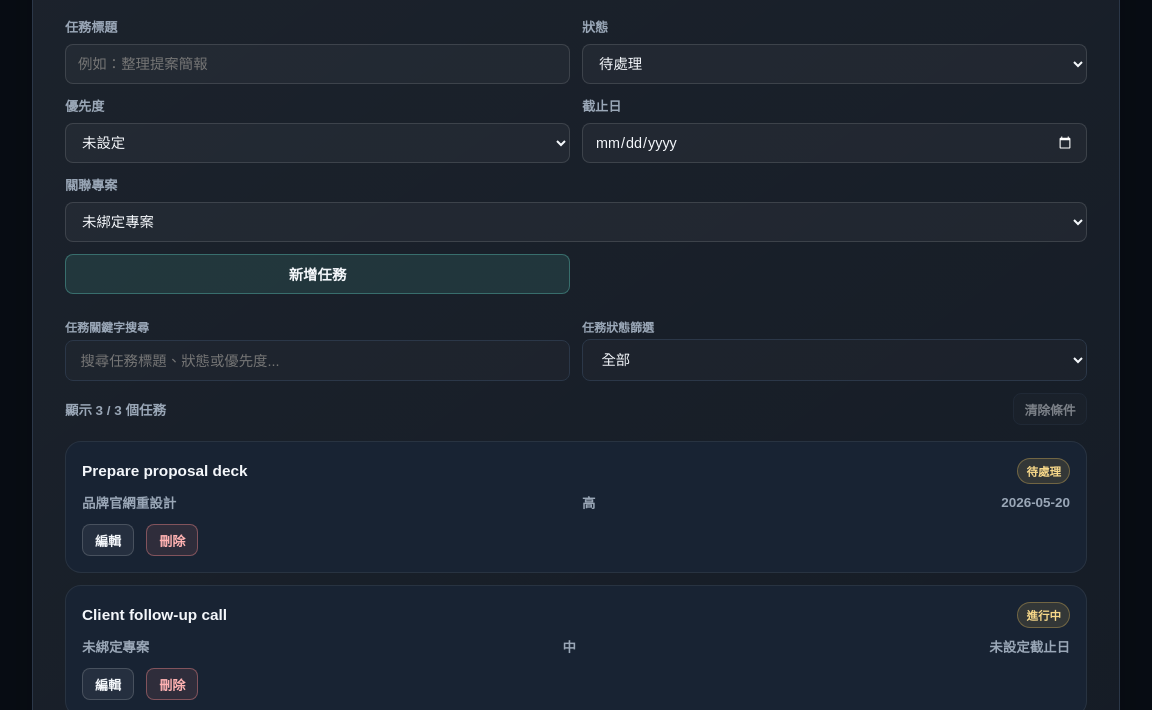
it: TasksPage Supabase integration behaviors › resets search/filter criteria on tasks page
The width and height of the screenshot is (1152, 710).
(page scrolled)
expect the field with id "tasks-search-input" is shown: met, box [65, 340, 570, 381]
Select "待處理" in the dropdown with id "tasks-status-filter" at [834, 360], box [582, 339, 1087, 381]
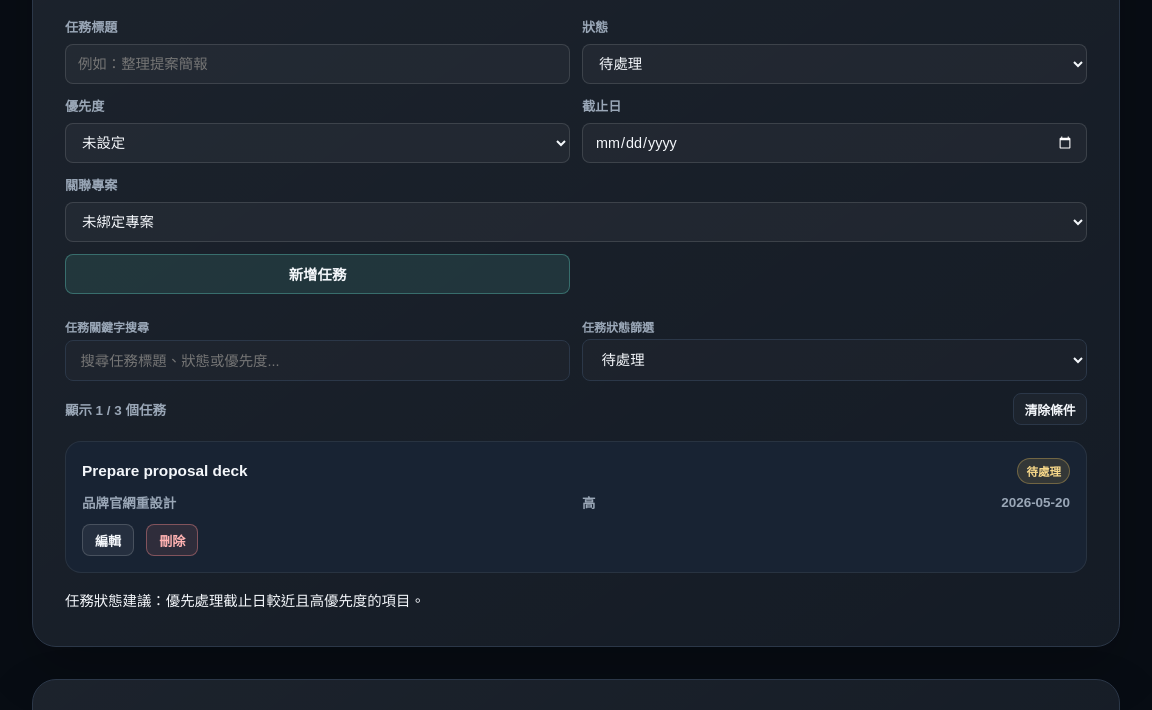
expect the number of elements with test id "tasks-status-badge" is 1: met, box [1018, 458, 1070, 484]
expect the text with test id "tasks-result-count" shows "1 / 3": met, box [65, 399, 166, 419]
expect the button with test id "tasks-reset-control" is enabled: met, box [1013, 393, 1087, 425]
Type "no-match-keyword" into the field with id "tasks-search-input".
click(318, 360); type("no-match-keyword")  # box [65, 340, 570, 381]
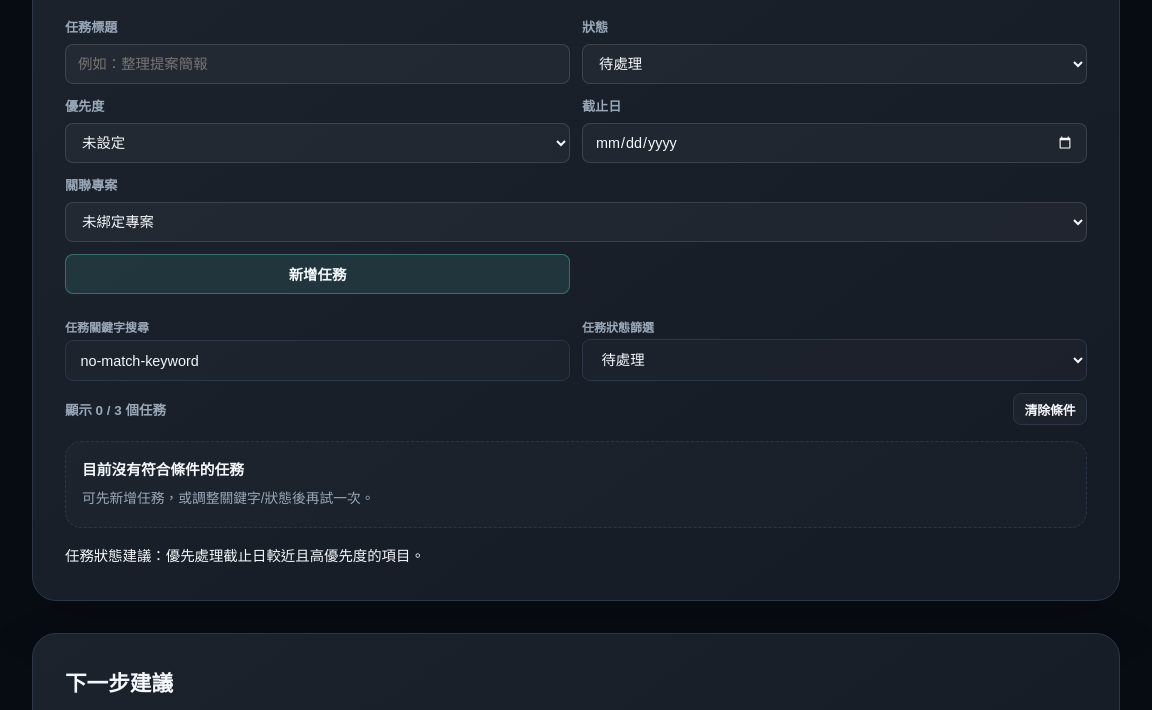
expect no elements with test id "tasks-status-badge" are shown: met
expect the element with test id "tasks-empty-state" is shown: met, box [65, 441, 1087, 528]
expect the text with test id "tasks-result-count" shows "0 / 3": met, box [65, 399, 166, 419]
Click the button with test id "tasks-reset-control".
click(1050, 409)  # box [1013, 393, 1087, 425]
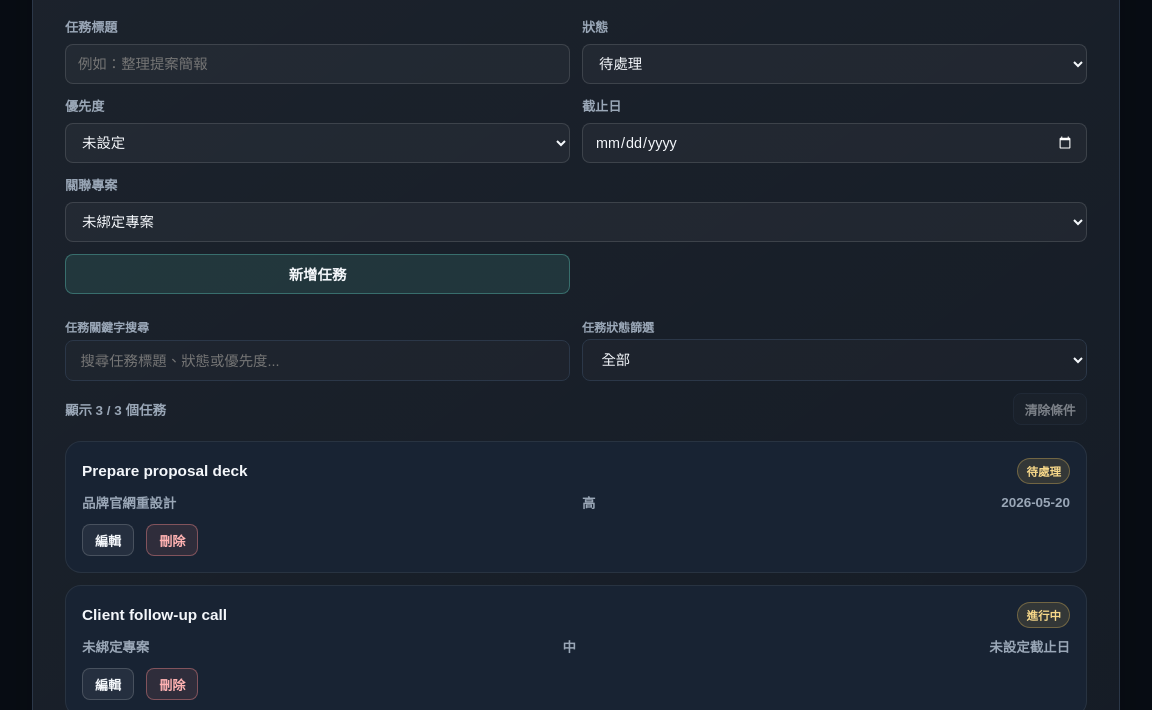
expect the field with id "tasks-search-input" is empty: met, box [65, 340, 570, 381]
expect the element with test id "tasks-empty-state" is gone: met
expect the number of elements with test id "tasks-status-badge" is 3: met
